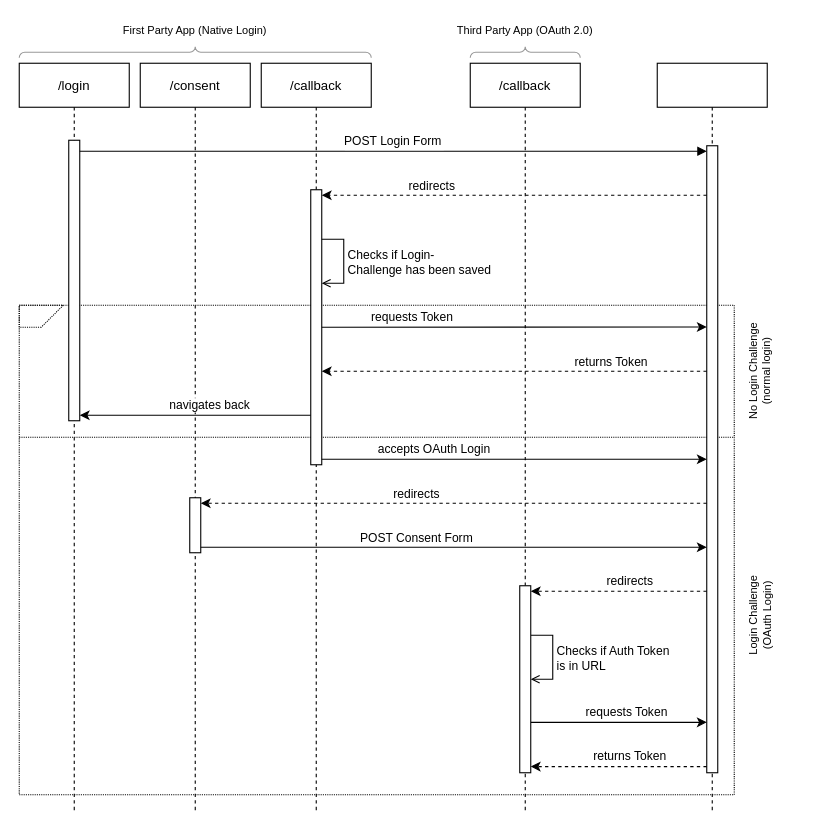
This 836x831 diagram has some shape labels left out. The shapes that lost their labels are listed below. From the top down, each one's box as (x1, y1, x2, y2) in pixels, then its label:
(18, 304, 63, 327): alt
(656, 62, 767, 811): wemogy Identity
